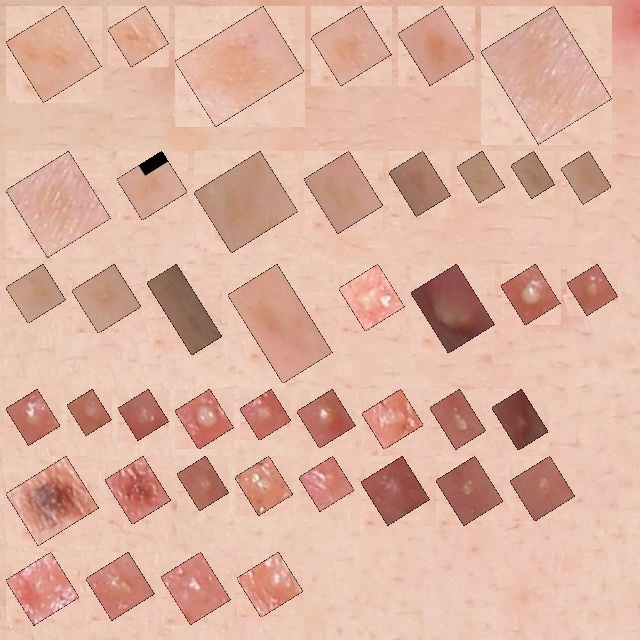melasma: (492, 17, 601, 133), (186, 17, 293, 115), (239, 275, 321, 372), (17, 162, 100, 246), (205, 162, 287, 242), (17, 17, 90, 91), (158, 275, 211, 344), (315, 162, 372, 222), (322, 17, 380, 75), (409, 17, 463, 74), (128, 162, 176, 209), (83, 275, 130, 322), (400, 162, 439, 205), (119, 17, 158, 56), (17, 275, 55, 312), (572, 162, 600, 193), (468, 162, 494, 191), (522, 162, 544, 187)
nevus: (17, 467, 88, 534), (116, 467, 160, 513)
pustule: (422, 275, 483, 342), (17, 563, 68, 614), (172, 563, 220, 613), (372, 467, 419, 514), (97, 563, 143, 609), (447, 467, 492, 514), (350, 275, 393, 320), (248, 563, 292, 606), (521, 467, 564, 510), (373, 400, 412, 438), (512, 275, 549, 314), (186, 400, 223, 438), (308, 400, 344, 437), (246, 467, 282, 504), (503, 400, 537, 439), (441, 400, 475, 438), (310, 467, 343, 500), (17, 400, 49, 434), (188, 467, 218, 499), (578, 275, 607, 304), (129, 400, 158, 429), (251, 400, 280, 429), (78, 400, 100, 424)
